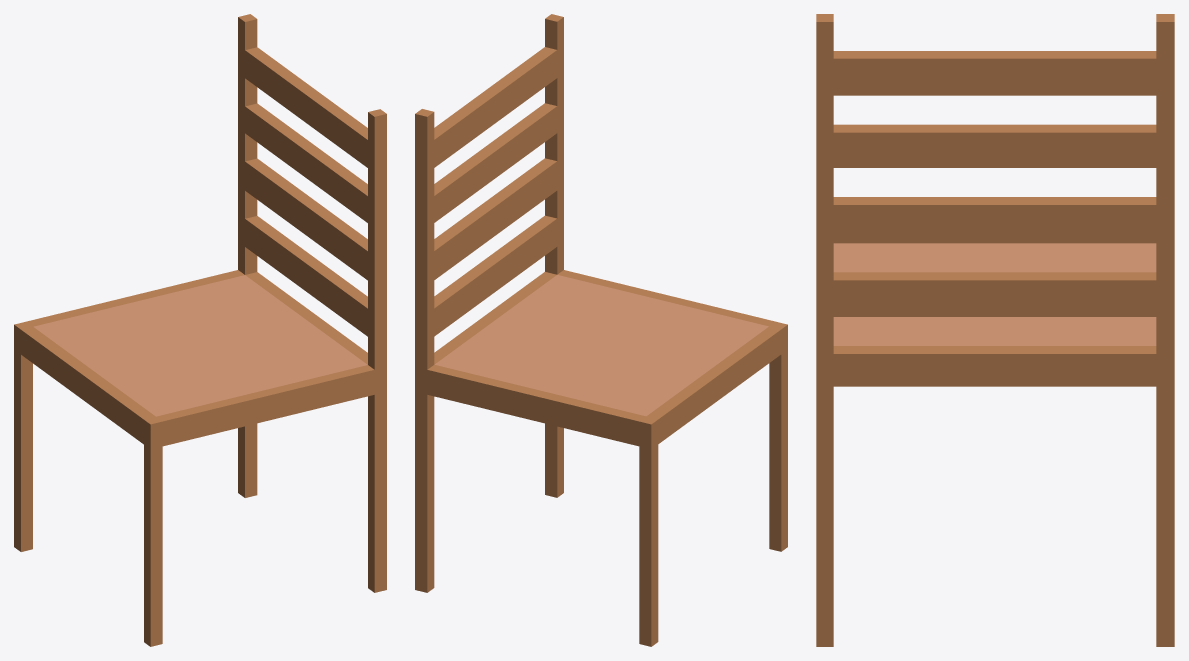
File: Chair.fbx
The picture shows the model from 3 angles, left to right: view 1: azimuth 30°, elevation 25°; view 2: azimuth 150°, elevation 25°; view 3: azimuth 270°, elevation 25°; orthographic projection. The views are drawn at different scales.
Visible parts, largest first — view 1: Cube; view 2: Cube; view 3: Cube.
Part boxes in pixels (x1,y1,x2,y2): Cube: [14, 14, 386, 646]; Cube: [415, 14, 787, 646]; Cube: [816, 14, 1174, 646].
Bounding box in the file's own units: 200 × 385 × 200.
